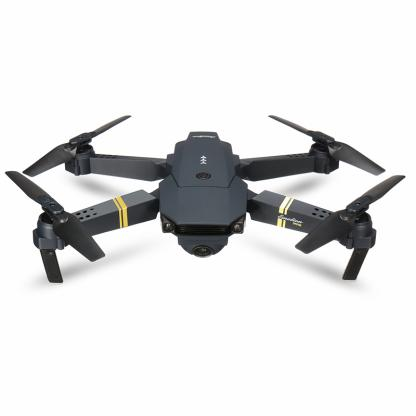drone: (12, 108, 410, 294)
